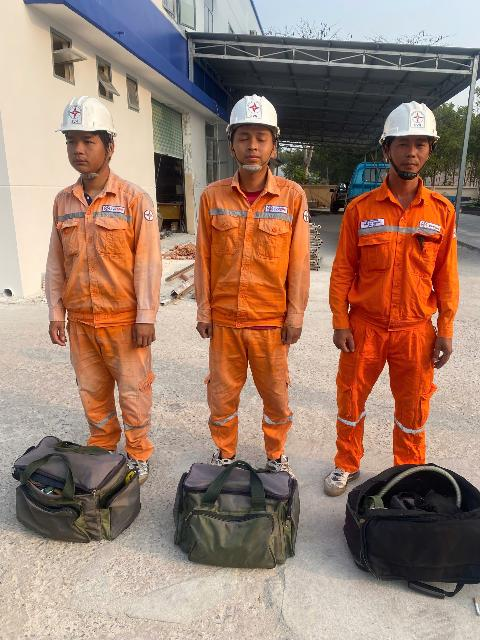helmet: (51, 89, 123, 147), (382, 100, 448, 147), (229, 94, 285, 139)
shoes: (253, 448, 305, 498), (312, 457, 362, 502), (123, 434, 155, 493), (207, 437, 242, 480), (96, 436, 118, 466)
